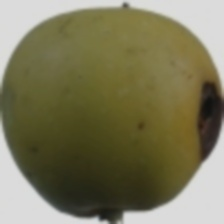apple: (10, 9, 192, 186)
